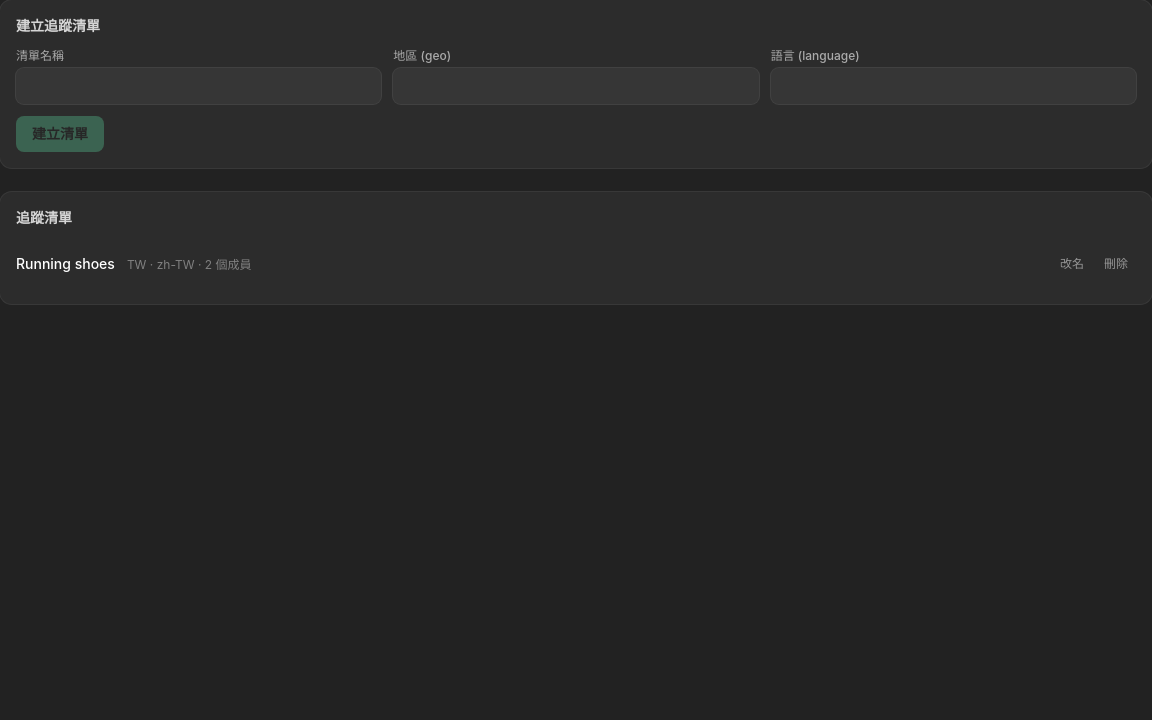
Test case: TC-40 · TrackingListsView › does not DELETE when the delete confirm is cancelled
Step 1. Click the button with aria-label "刪除 Running shoes" → (1116,264), box [1096,252,1136,276]
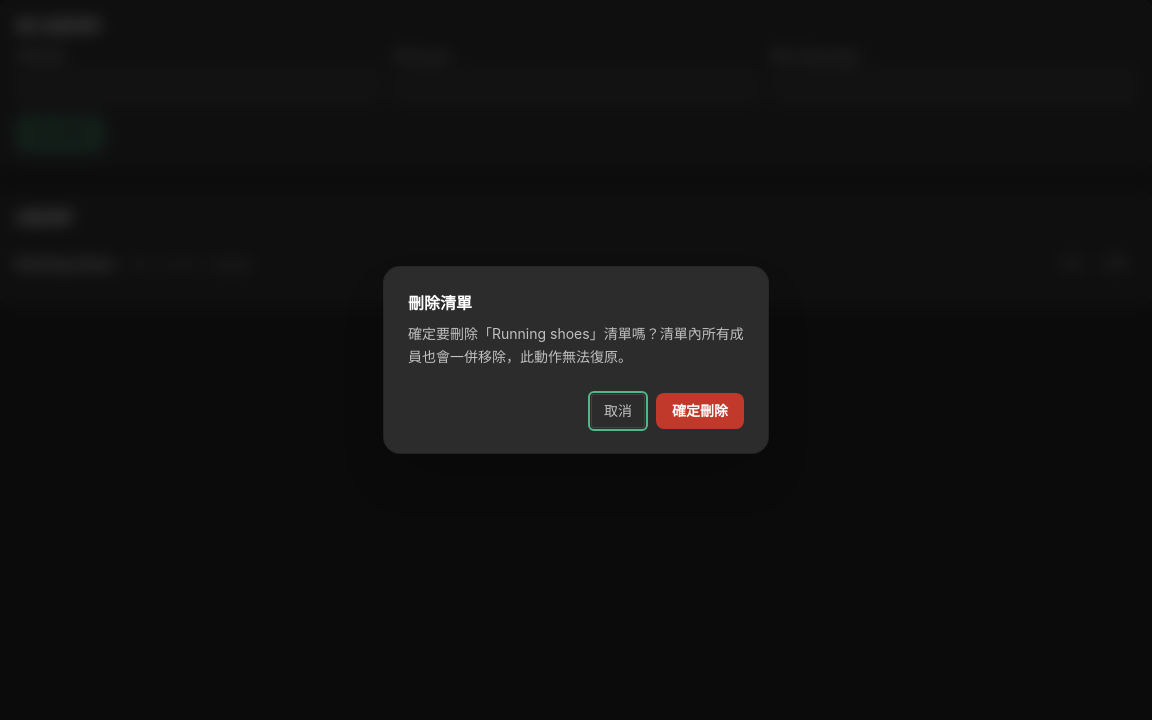
Step 2. Click the button "取消" → (618,411), box [592,395,644,427]
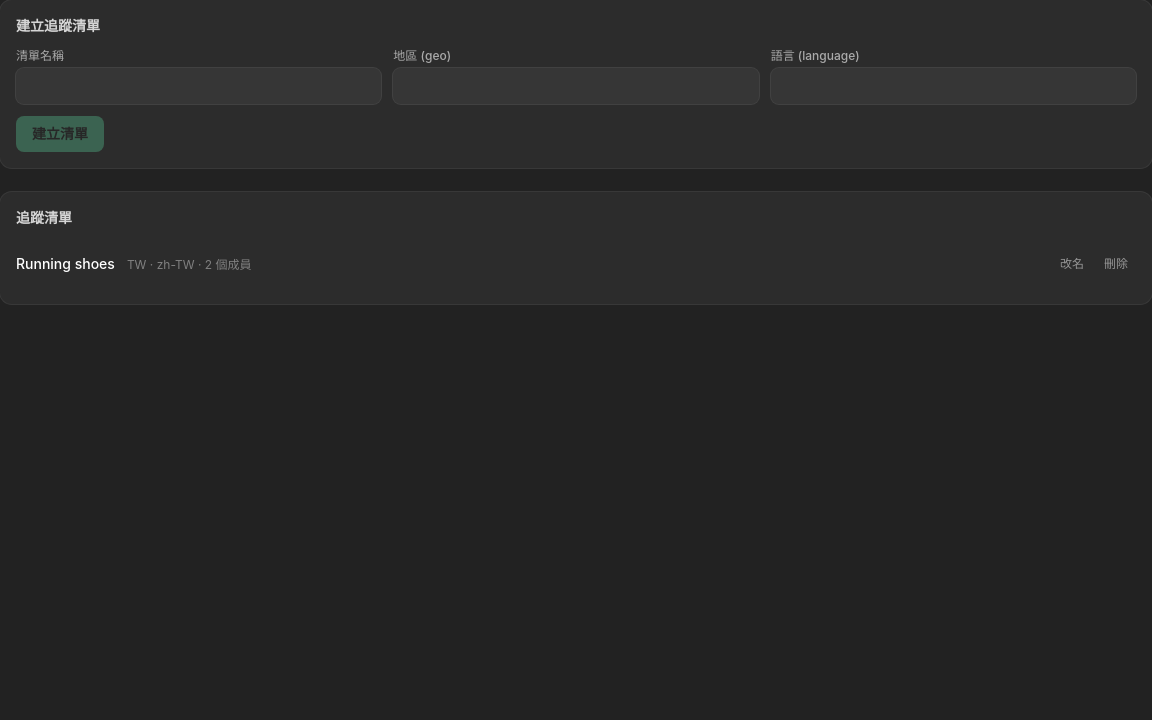
Expected: the button "Running shoes" is shown, [16,254,115,274]
Expected: the dialog is gone
